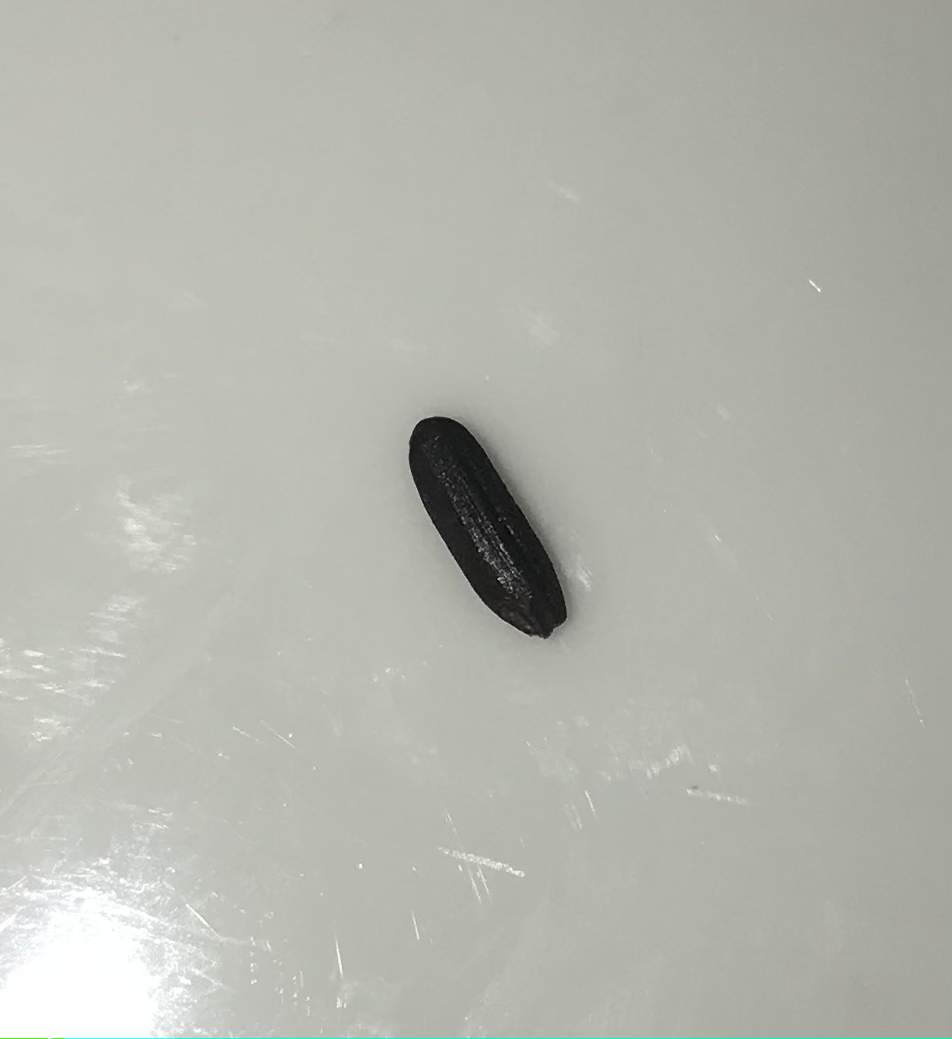Gao lut: (404, 410, 570, 647)
